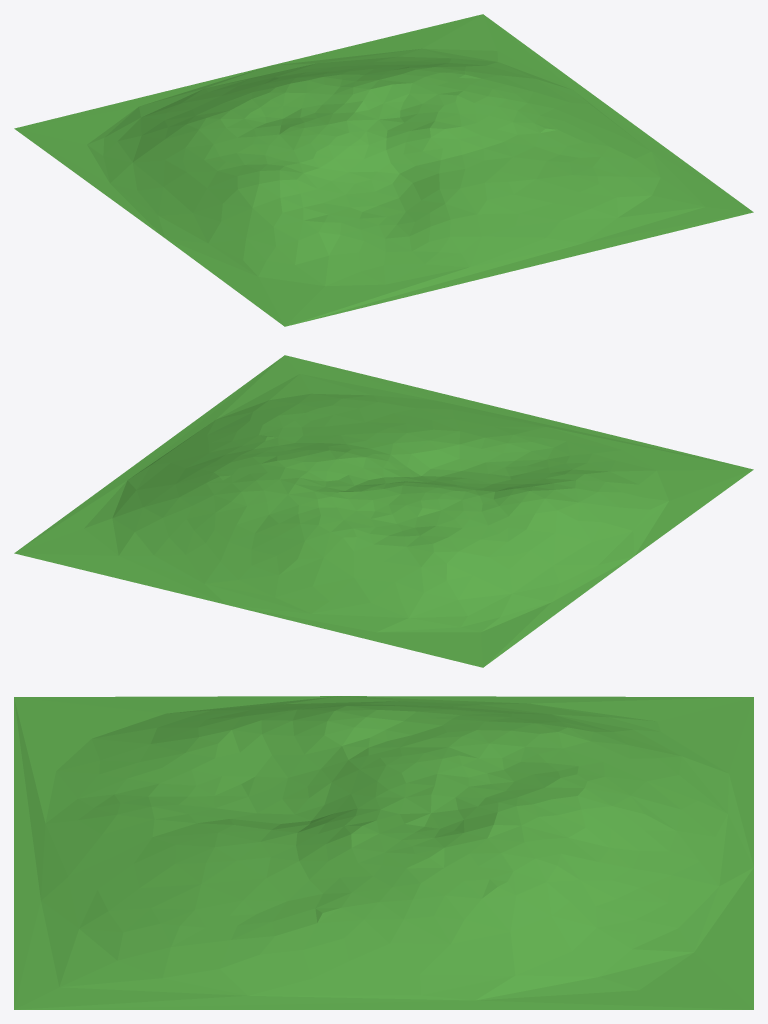
Rendered from hills02.fbx.
3 views of the same model, one above another, from view 1: azimuth 30°, elevation 25°; view 2: azimuth 150°, elevation 25°; view 3: azimuth 270°, elevation 25° (orthographic). The views are drawn at different scales.
Parts seen in each view (by area): view 1: hills02; view 2: hills02; view 3: hills02.
Part boxes in pixels (<box>): hills02: <box>14,14,753,326</box>; hills02: <box>14,355,753,667</box>; hills02: <box>14,696,753,1009</box>.
Bounding box in the file's own units: 2000 × 182 × 2000.
